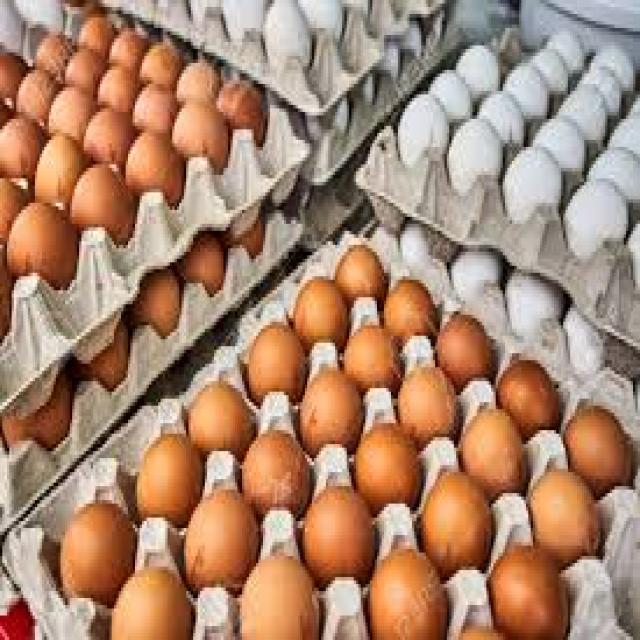Egg: (232, 346, 551, 624), (8, 50, 203, 176), (187, 488, 263, 598), (55, 503, 137, 595), (104, 563, 196, 640), (140, 437, 208, 535), (186, 379, 258, 454), (295, 273, 348, 368), (384, 275, 436, 340)
